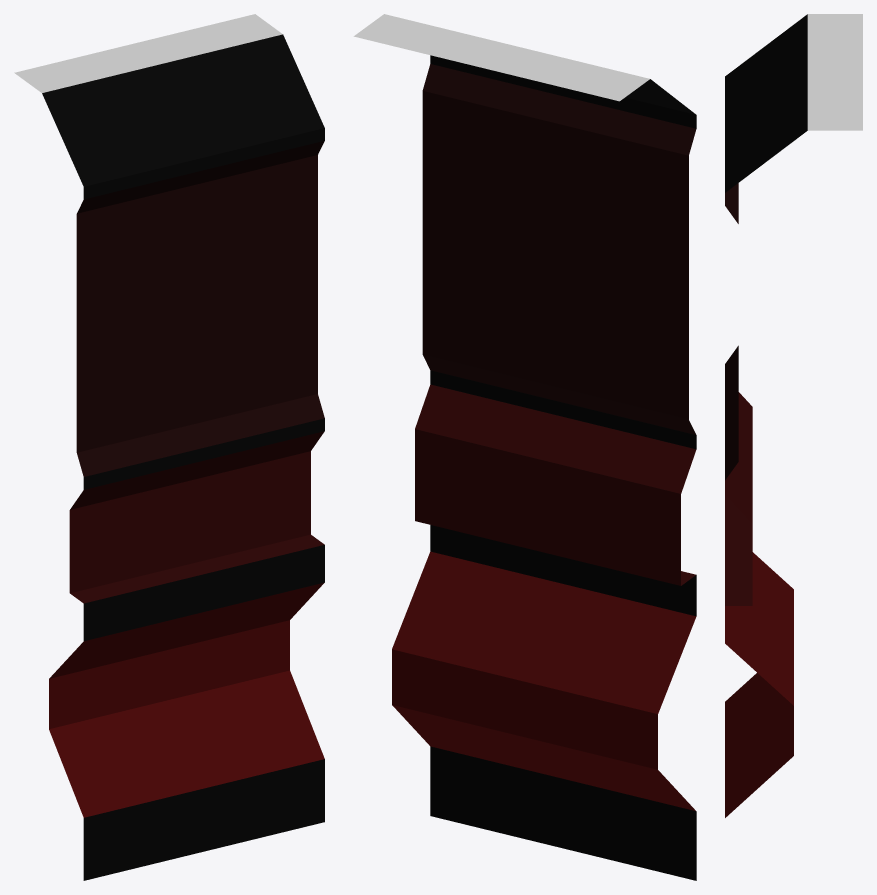
The model's file is Wall.fbx.
The picture shows the model from 3 angles, left to right: view 1: azimuth 30°, elevation 25°; view 2: azimuth 150°, elevation 25°; view 3: azimuth 270°, elevation 25°; orthographic projection. The views are drawn at different scales.
Parts seen in each view (by area): view 1: Wall_1, Wall_Dark_Top; view 2: Wall_1, Wall_Dark_Top; view 3: Wall_1, Wall_Dark_Top.
Part boxes in pixels (x1,y1,x2,y2): Wall_1: [42, 34, 324, 880]; Wall_Dark_Top: [14, 14, 282, 92]; Wall_1: [392, 55, 696, 880]; Wall_Dark_Top: [353, 14, 649, 101]; Wall_1: [725, 14, 807, 817]; Wall_Dark_Top: [807, 14, 862, 130].
Bounding box in the file's own units: 100 × 300 × 50.
